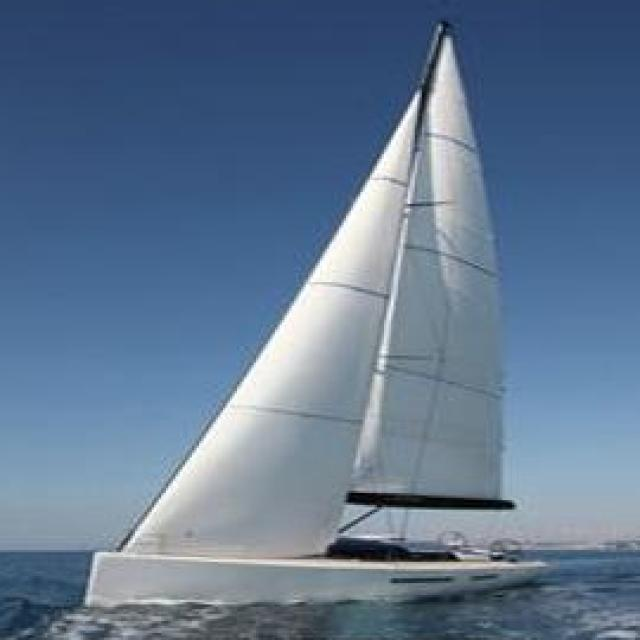sailboat: (84, 20, 549, 598)
